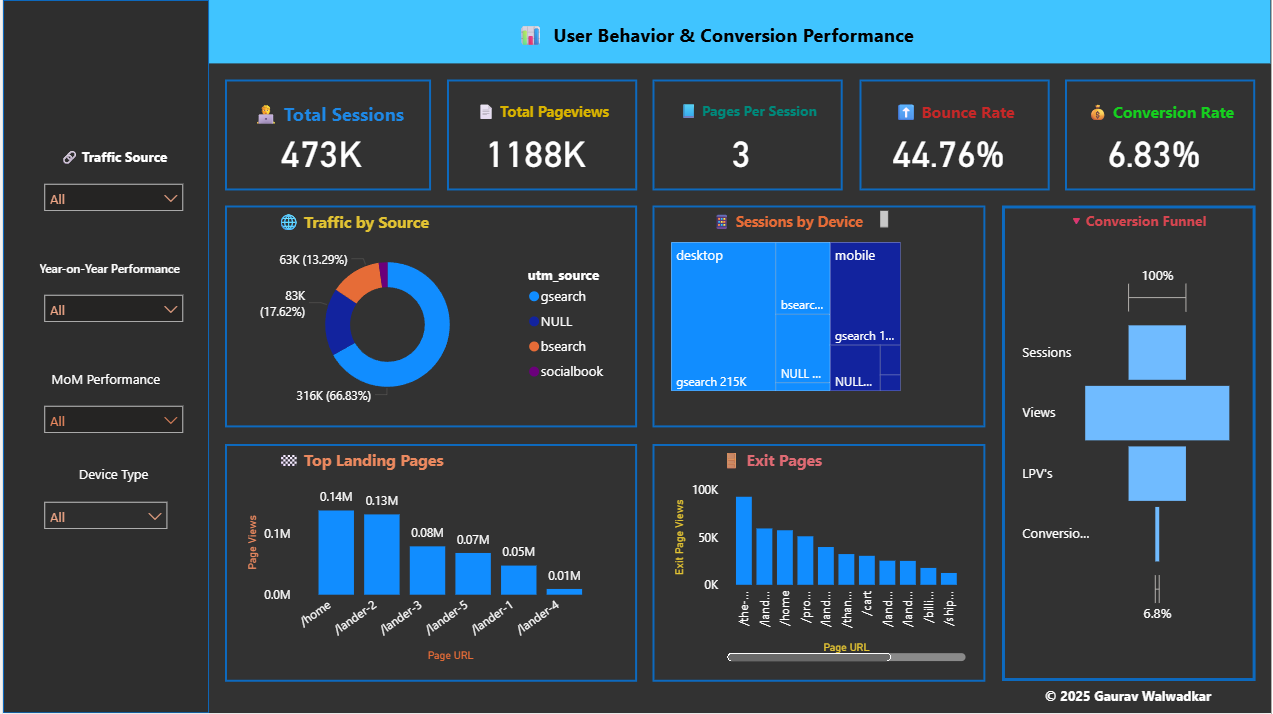

Layout of this report page (visuals, bound fields, positions):
{"tool":"powerbi","page":{"name":" User Behavior & Conversion Performance","canvas":[1280,720],"ordinal":2},"visuals":[{"type":"shape","box":[224,208,416,224],"z":0,"group":"g6"},{"type":"shape","box":[1008,208,256,480],"z":0},{"type":"shape","box":[656,448,336,240],"z":0,"group":"g8"},{"type":"shape","box":[656,208,336,224],"z":1000,"group":"g7"},{"type":"textbox","box":[1040,208,208,32],"z":1000},{"type":"donutChart","fields":{"Category":["Dim_WebsiteSessions.utm_source"],"Y":["Measure.Total Sessions"]},"box":[240,240,384,176],"z":1000,"group":"g6"},{"type":"shape","box":[208,0,1072,64],"z":2000},{"type":"textbox","box":[272,208,256,32],"z":2000,"group":"g6"},{"type":"shape","box":[224,448,416,240],"z":2000,"group":"g9"},{"type":"textbox","box":[512,16,416,48],"z":3000},{"type":"shape","box":[0,0,208,720],"z":4000},{"type":"slicer","fields":{"Values":["Date.Year"]},"box":[32,288,160,48],"z":5000},{"type":"textbox","box":[32,256,176,32],"z":6000},{"type":"textbox","box":[32,368,144,32],"z":7000},{"type":"slicer","fields":{"Values":["Date.Month"]},"box":[32,400,160,48],"z":8000},{"type":"shape","box":[224,80,208,112],"z":9000,"group":"g1"},{"type":"shape","box":[448,80,192,112],"z":9000,"group":"g2"},{"type":"shape","box":[656,80,192,112],"z":9000,"group":"g3"},{"type":"shape","box":[864,80,192,112],"z":9000,"group":"g4"},{"type":"shape","box":[1072,80,192,112],"z":9000,"group":"g5"},{"type":"slicer","fields":{"Values":["Dim_WebsiteSessions.device_type"]},"box":[32,496,144,48],"z":9000},{"type":"textbox","box":[32,464,160,32],"z":10000},{"type":"textbox","box":[992,688,288,32],"z":11000},{"type":"group","id":"g1","title":"Group 1","box":[224,80,208,112],"z":12000},{"type":"group","id":"g2","title":"Group 1","box":[448,80,192,112],"z":13000},{"type":"group","id":"g3","title":"Group 1","box":[656,80,192,112],"z":14000},{"type":"group","id":"g4","title":"Group 1","box":[864,80,192,112],"z":15000},{"type":"card","fields":{"Values":["Measure.Total Sessions"]},"box":[240,128,160,48],"z":15000,"group":"g1"},{"type":"card","fields":{"Values":["Measure.Total Pageviews"]},"box":[462.8,128,147.7,48],"z":15000,"group":"g2"},{"type":"card","fields":{"Values":["Measure.Pages Per Session"]},"box":[670.8,128,147.7,48],"z":15000,"group":"g3"},{"type":"card","fields":{"Values":["Measure.Bounce Rate %"]},"box":[878.8,128,147.7,48],"z":15000,"group":"g4"},{"type":"card","fields":{"Values":["Measure.Conversion Rate %"]},"box":[1086.8,128,147.7,48],"z":15000,"group":"g5"},{"type":"group","id":"g5","title":"Group 1","box":[1072,80,192,112],"z":16000},{"type":"textbox","box":[240,96,176,48],"z":16000,"group":"g1"},{"type":"textbox","box":[462.8,96,162.5,48],"z":16000,"group":"g2"},{"type":"textbox","box":[670.8,96,162.5,48],"z":16000,"group":"g3"},{"type":"textbox","box":[878.8,96,162.5,48],"z":16000,"group":"g4"},{"type":"textbox","box":[1086.8,96,162.5,48],"z":16000,"group":"g5"},{"type":"group","id":"g6","title":"Group 2","box":[224,208,416,224],"z":17000},{"type":"group","id":"g7","title":"Group 3","box":[656,208,336,224],"z":18000},{"type":"treemap","fields":{"Group":["Dim_WebsiteSessions.device_type"],"Values":["Measure.Total Sessions"],"Details":["Dim_WebsiteSessions.utm_source"]},"box":[669.4,240,241.9,160],"z":19000,"group":"g7"},{"type":"group","id":"g8","title":"Group 4","box":[656,448,336,240],"z":19000},{"type":"group","id":"g9","title":"Group 5","box":[224,448,416,240],"z":20000},{"type":"textbox","box":[709.8,208,188.2,32],"z":21000,"group":"g7"},{"type":"funnel","fields":{"Y":["Measure.Total Sessions","Measure.Total Pageviews","Measure.Landing Page Views","Measure.Converted Sessions"]},"box":[1024,240,224,416],"z":21000},{"type":"slicer","fields":{"Values":["Dim_WebsiteSessions.utm_source"]},"box":[32,176,160,48],"z":22000},{"type":"columnChart","fields":{"Category":["Fact_WebsitePageviews.pageview_url"],"Y":["Measure.Landing Page Views"]},"box":[240,480,368,192],"z":22000,"group":"g9"},{"type":"textbox","box":[32,144,160,32],"z":23000},{"type":"textbox","box":[272,448,224,32],"z":23000,"group":"g9"},{"type":"columnChart","fields":{"Y":["Measure.Exit Page Views"],"Category":["Fact_WebsitePageviews.pageview_url"]},"box":[672,480,304,192],"z":24000,"group":"g8"},{"type":"textbox","box":[720,448,224,32],"z":25000,"group":"g8"}]}

Visuals, with their boxes in screenshot pixels (x1, y1, x2, y2), scaled from the page's 1280x720 canvas onto the 1273x714 screenshot:
shape: box=[223, 206, 636, 428]
shape: box=[1002, 206, 1257, 682]
shape: box=[652, 444, 987, 682]
shape: box=[652, 206, 987, 428]
textbox: box=[1034, 206, 1241, 238]
donutChart - Dim_WebsiteSessions.utm_source x Measure.Total Sessions: box=[239, 238, 621, 413]
shape: box=[207, 0, 1272, 63]
textbox: box=[271, 206, 525, 238]
shape: box=[223, 444, 636, 682]
textbox: box=[509, 16, 923, 63]
shape: box=[0, 0, 207, 713]
slicer - Date.Year: box=[32, 286, 191, 333]
textbox: box=[32, 254, 207, 286]
textbox: box=[32, 365, 175, 397]
slicer - Date.Month: box=[32, 397, 191, 444]
shape: box=[223, 79, 430, 190]
shape: box=[446, 79, 636, 190]
shape: box=[652, 79, 843, 190]
shape: box=[859, 79, 1050, 190]
shape: box=[1066, 79, 1257, 190]
slicer - Dim_WebsiteSessions.device_type: box=[32, 492, 175, 539]
textbox: box=[32, 460, 191, 492]
textbox: box=[987, 682, 1272, 713]
"Group 1" group: box=[223, 79, 430, 190]
"Group 1" group: box=[446, 79, 636, 190]
"Group 1" group: box=[652, 79, 843, 190]
"Group 1" group: box=[859, 79, 1050, 190]
card - Measure.Total Sessions: box=[239, 127, 398, 175]
card - Measure.Total Pageviews: box=[460, 127, 607, 175]
card - Measure.Pages Per Session: box=[667, 127, 814, 175]
card - Measure.Bounce Rate %: box=[874, 127, 1021, 175]
card - Measure.Conversion Rate %: box=[1081, 127, 1228, 175]
"Group 1" group: box=[1066, 79, 1257, 190]
textbox: box=[239, 95, 414, 143]
textbox: box=[460, 95, 622, 143]
textbox: box=[667, 95, 829, 143]
textbox: box=[874, 95, 1036, 143]
textbox: box=[1081, 95, 1242, 143]
"Group 2" group: box=[223, 206, 636, 428]
"Group 3" group: box=[652, 206, 987, 428]
treemap - Dim_WebsiteSessions.device_type x Measure.Total Sessions: box=[666, 238, 906, 397]
"Group 4" group: box=[652, 444, 987, 682]
"Group 5" group: box=[223, 444, 636, 682]
textbox: box=[706, 206, 893, 238]
funnel - Measure.Total Sessions x Measure.Total Pageviews: box=[1018, 238, 1241, 651]
slicer - Dim_WebsiteSessions.utm_source: box=[32, 175, 191, 222]
columnChart - Fact_WebsitePageviews.pageview_url x Measure.Landing Page Views: box=[239, 476, 605, 666]
textbox: box=[32, 143, 191, 175]
textbox: box=[271, 444, 493, 476]
columnChart - Measure.Exit Page Views x Fact_WebsitePageviews.pageview_url: box=[668, 476, 971, 666]
textbox: box=[716, 444, 939, 476]
